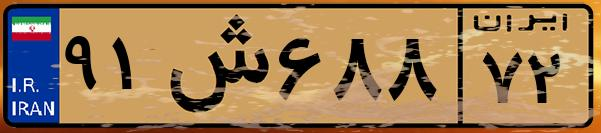1: (110, 28, 158, 98)
2: (525, 38, 570, 115)
6: (270, 28, 330, 110)
7: (475, 38, 525, 113)
8: (385, 28, 445, 110), (330, 28, 385, 110)
9: (57, 26, 110, 100)
ش: (158, 12, 270, 120)
